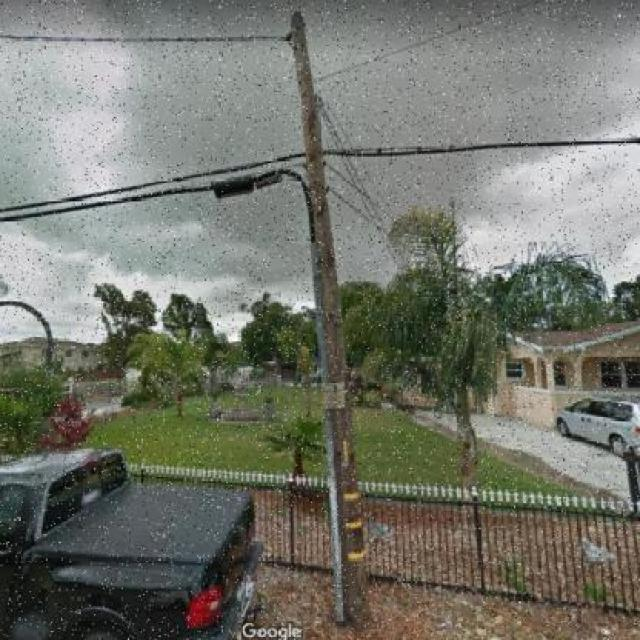pole: (234, 7, 394, 624)
